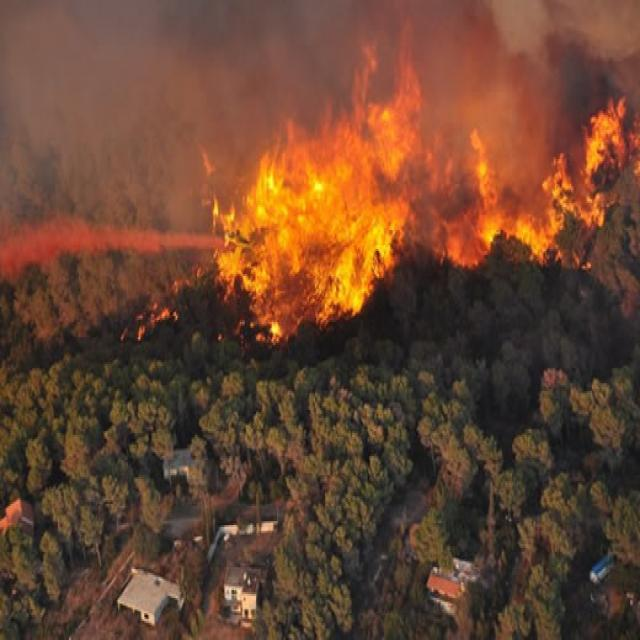Fire: (236, 76, 633, 340)
Smoke: (41, 19, 554, 204)
